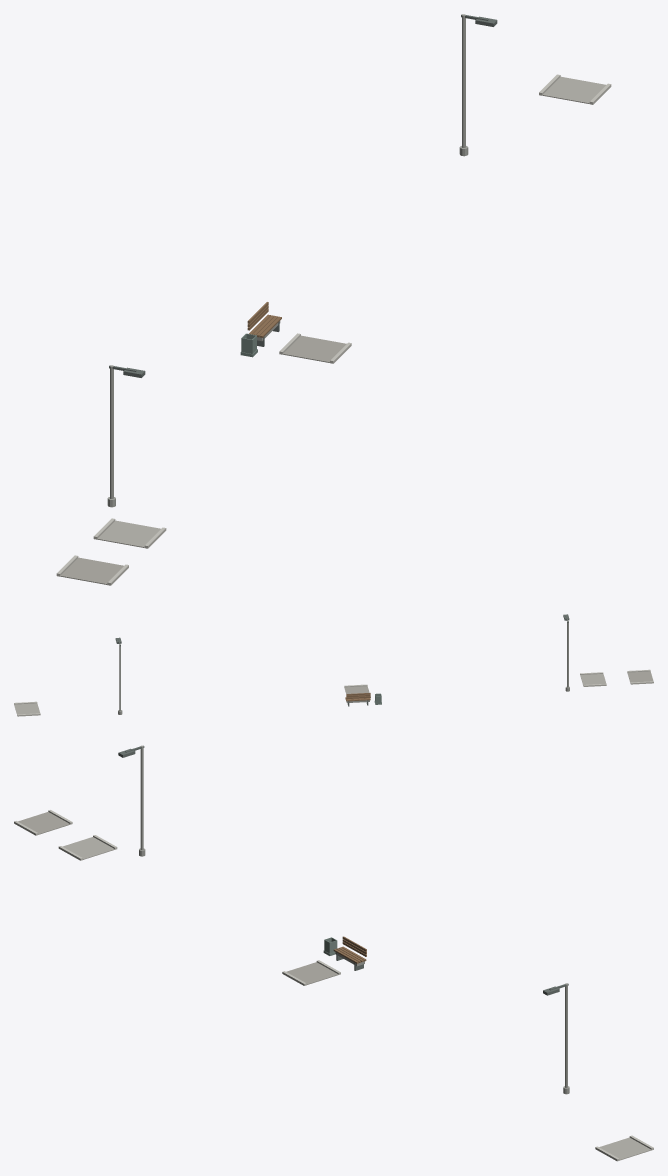
File: district_2_-2.glb
3 views of the same model, one above another, from view 1: azimuth 30°, elevation 25°; view 2: azimuth 150°, elevation 25°; view 3: azimuth 270°, elevation 25° (orthographic). The views are drawn at different scales.
Parts seen in each view (by area): view 1: CityPaving, CitySolid, CityCurbs; view 2: CityPaving, CityCurbs, CitySolid, CityWood; view 3: CityPaving, CitySolid, CityCurbs.
Part boxes in pixels (<box>): CityPaving: <box>60,76,605,584</box>; CitySolid: <box>107,14,468,507</box>; CityCurbs: <box>56,74,611,585</box>; CityPaving: <box>14,671,653,714</box>; CityCurbs: <box>14,669,653,716</box>; CitySolid: <box>118,620,569,714</box>; CityWood: <box>345,693,370,701</box>; CityPaving: <box>18,812,651,1160</box>; CitySolid: <box>139,745,569,1094</box>; CityCurbs: <box>14,810,653,1161</box>.
Size of the model in its own units: 39.92 by 5.8 by 30.88.
